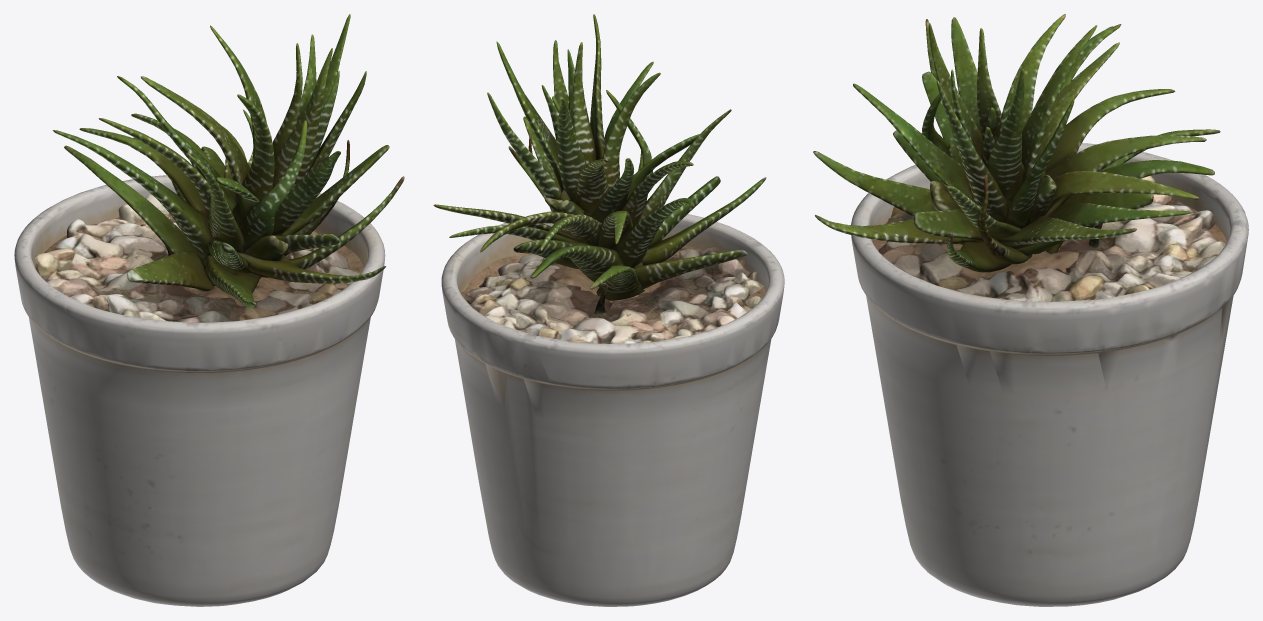
File: potted_plant_04_4k.glb
3 views of the same model, side by side, from view 1: azimuth 30°, elevation 25°; view 2: azimuth 150°, elevation 25°; view 3: azimuth 270°, elevation 25° (orthographic). The views are drawn at different scales.
Visible parts, largest first — view 1: potted_plant_04; view 2: potted_plant_04; view 3: potted_plant_04.
Boxes of the visible parts, bbox=[...] form: potted_plant_04: bbox=[14, 14, 404, 606]; potted_plant_04: bbox=[433, 14, 784, 606]; potted_plant_04: bbox=[813, 14, 1248, 606].
Bounding box in the file's own units: 0.1679 × 0.2666 × 0.1837.
1 material, 1 textured.
